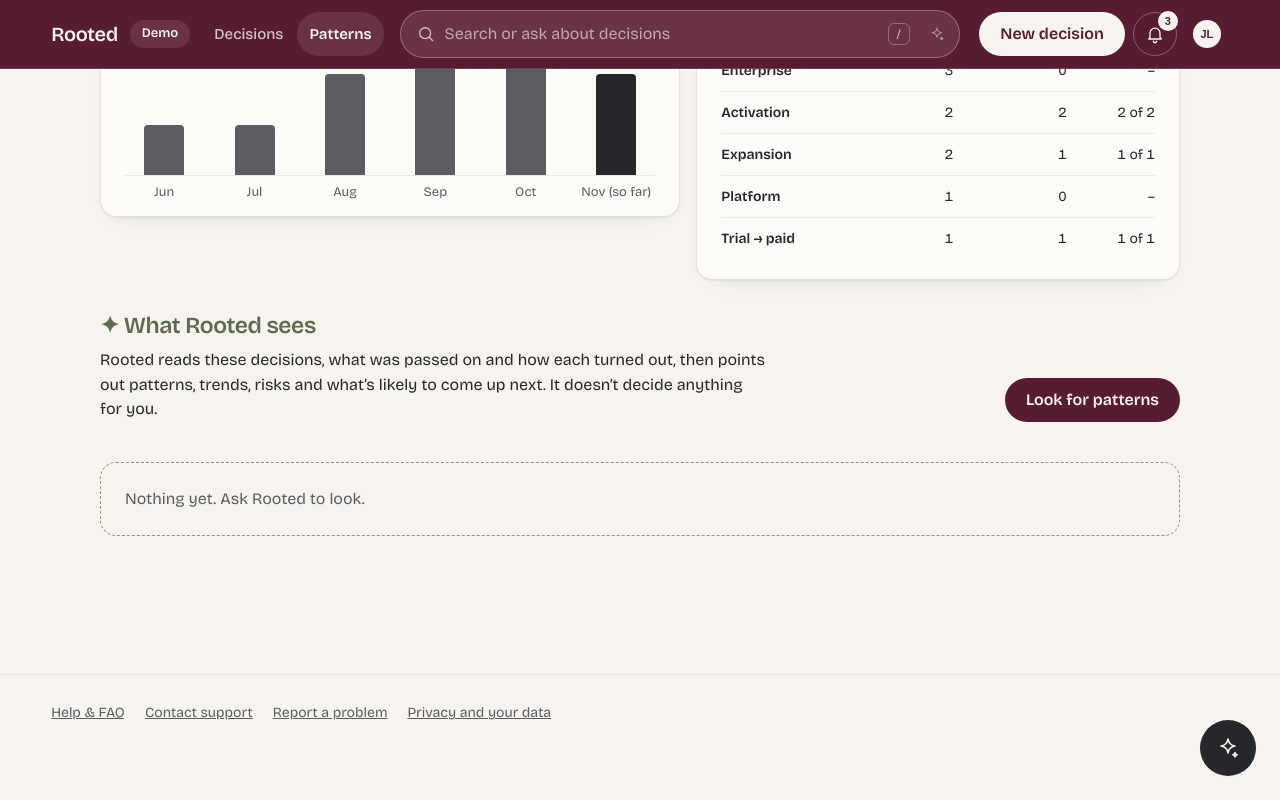
Scenario: Patterns and trends (F-R3-05) › F-R3-05: Rooted’s patterns and predictions are marked ✦, cite real decisions and link to them on the map
(page scrolled)
Click the button "Look for patterns": (1092,400) [1005,378,1180,422]
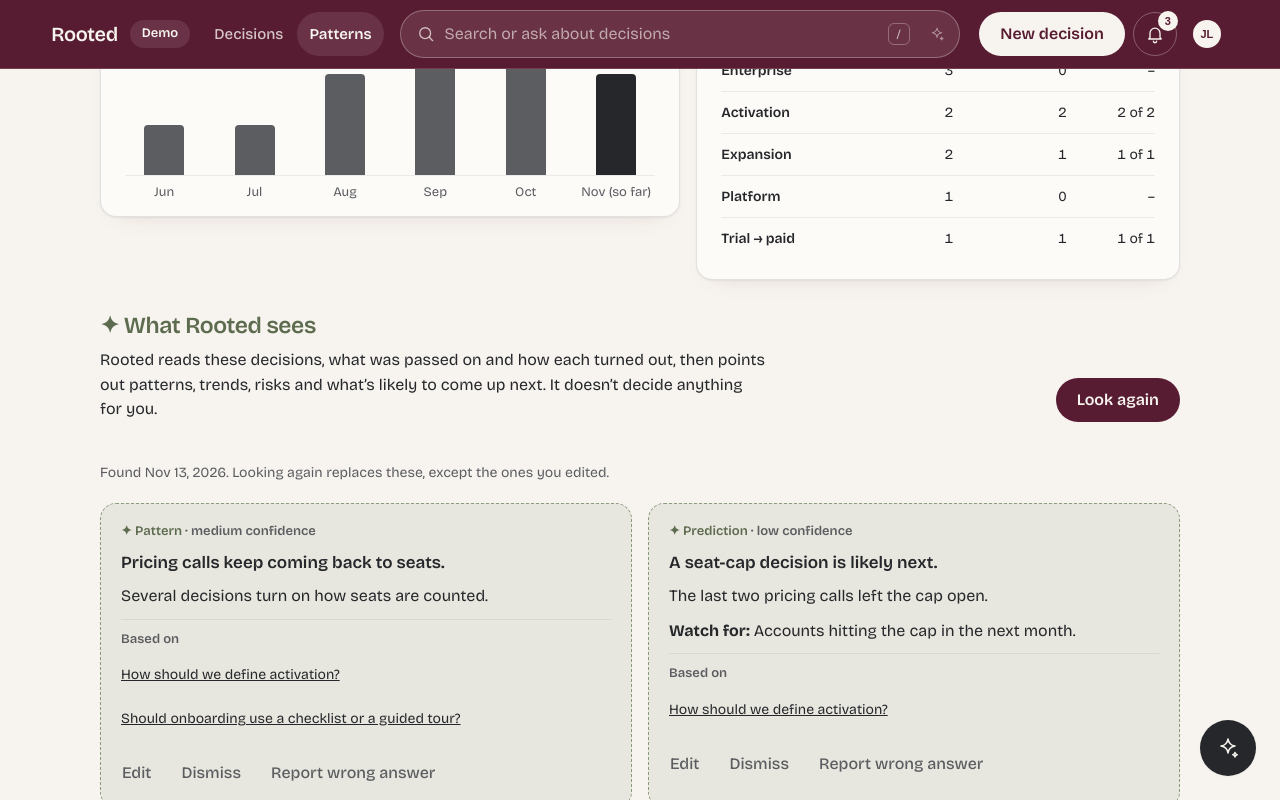
Check: the text "Pricing calls keep coming back to seats." is shown, box [121,552,445,573]
Check: the text "✦ Pattern" is shown, box [121,523,182,539]
Check: the text "✦ Prediction" is shown, box [669,523,748,539]
